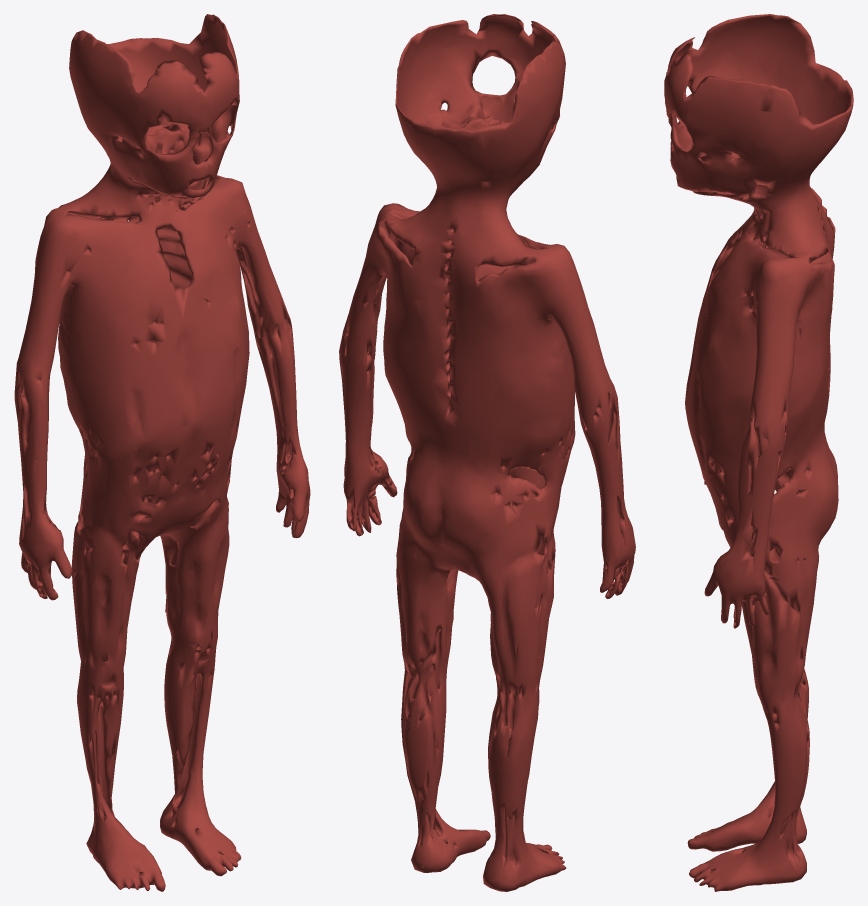
Rendered from pediatric_infant_female.muscular.LOD1.glb.
3 views of the same model, side by side, from view 1: azimuth 30°, elevation 25°; view 2: azimuth 150°, elevation 25°; view 3: azimuth 270°, elevation 25° (orthographic).
Parts seen in each view (by area): view 1: PEDIATRIC.INFANT.FEMALE.MUSCULAR.MUSCLE; view 2: PEDIATRIC.INFANT.FEMALE.MUSCULAR.MUSCLE; view 3: PEDIATRIC.INFANT.FEMALE.MUSCULAR.MUSCLE.
Boxes of the visible parts, <box> form: PEDIATRIC.INFANT.FEMALE.MUSCULAR.MUSCLE: <box>14,14,310,891</box>; PEDIATRIC.INFANT.FEMALE.MUSCULAR.MUSCLE: <box>339,14,635,891</box>; PEDIATRIC.INFANT.FEMALE.MUSCULAR.MUSCLE: <box>664,14,853,891</box>.
Bounding box in the file's own units: 0.2566 × 0.7323 × 0.1532.
